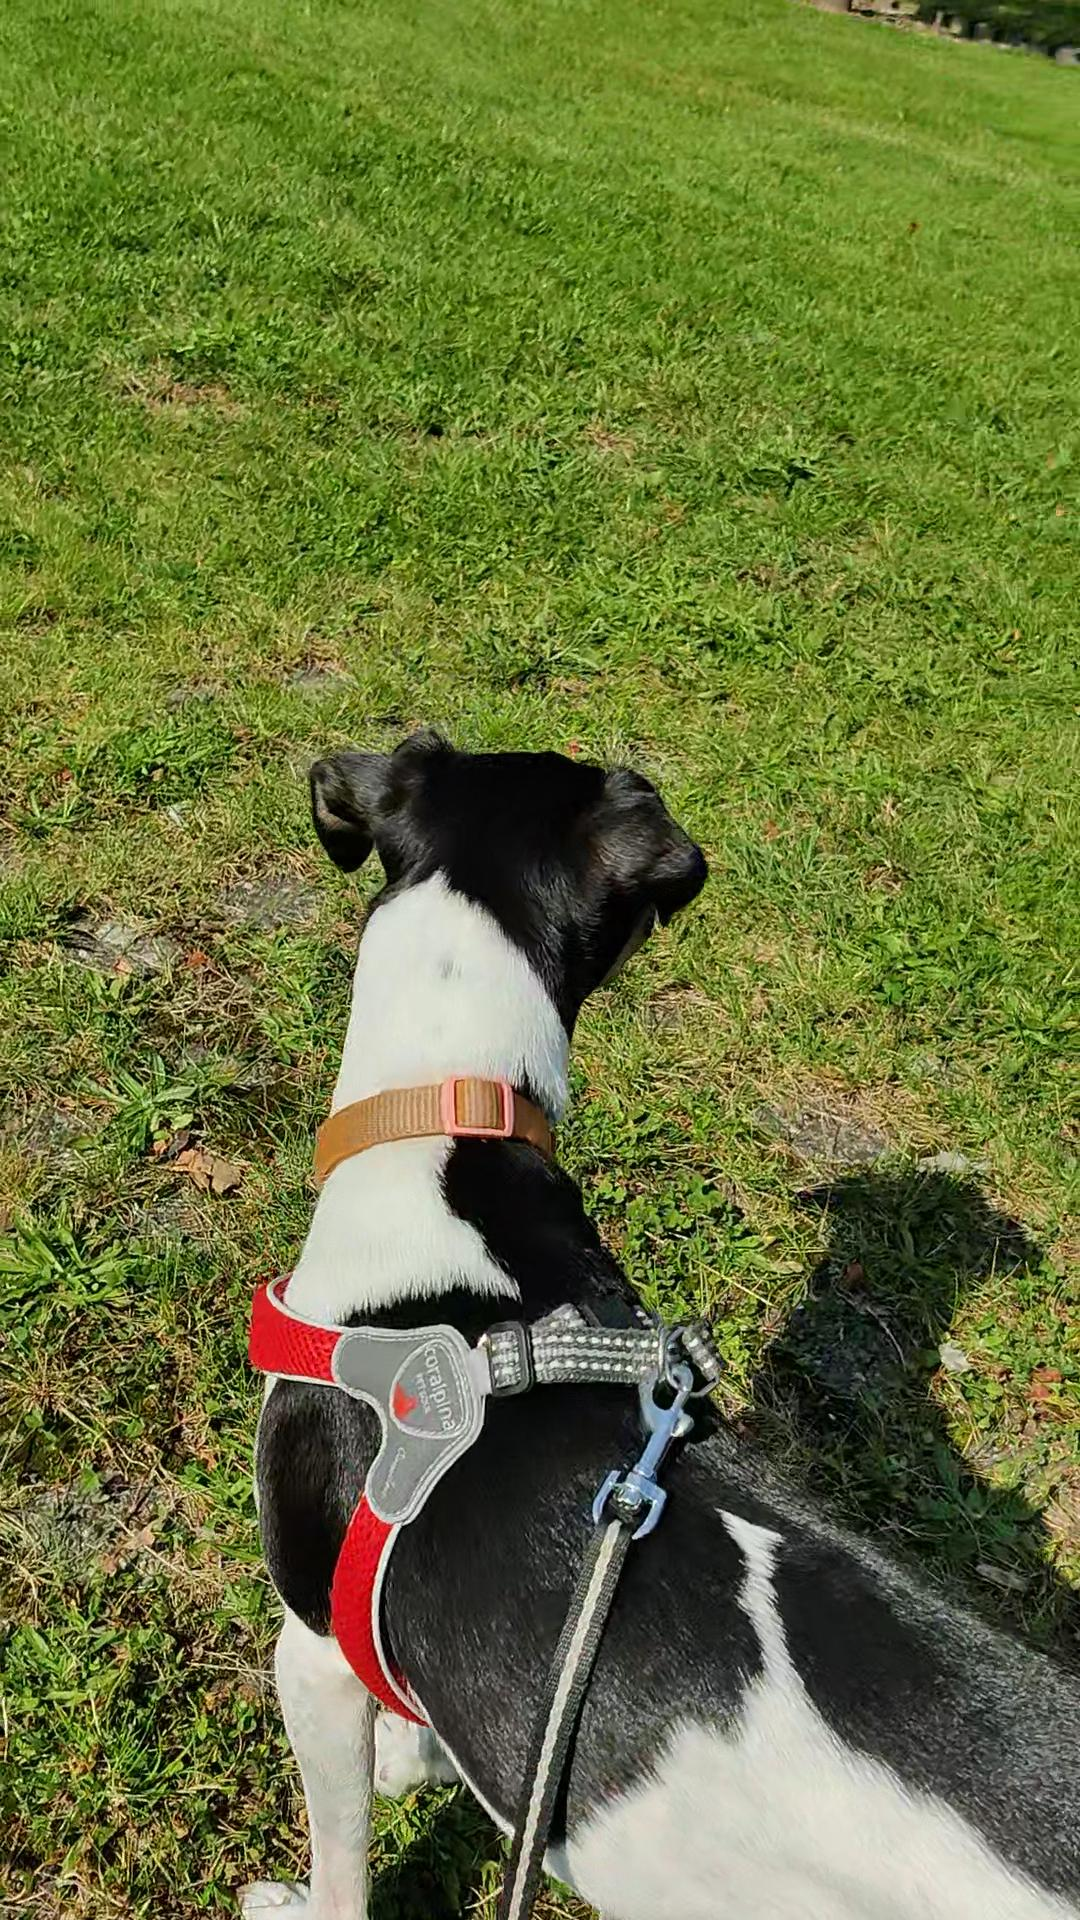Dog: (222, 713, 1079, 1919)
